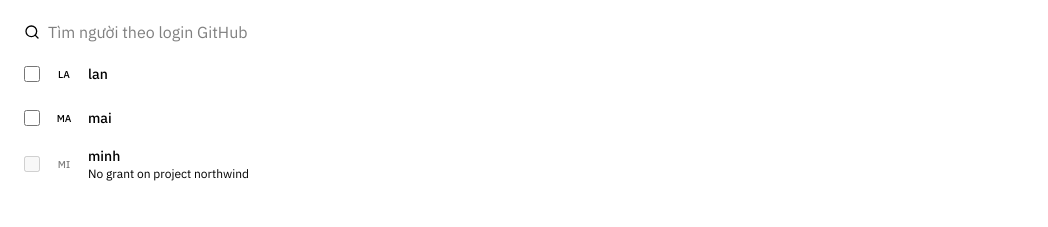
Test case: PeoplePicker › searches, and Enter takes the one row left or the login typed as it is
Type "LA" into the search field with test id "people-search" at (536, 32), box [48,12,1024,52]
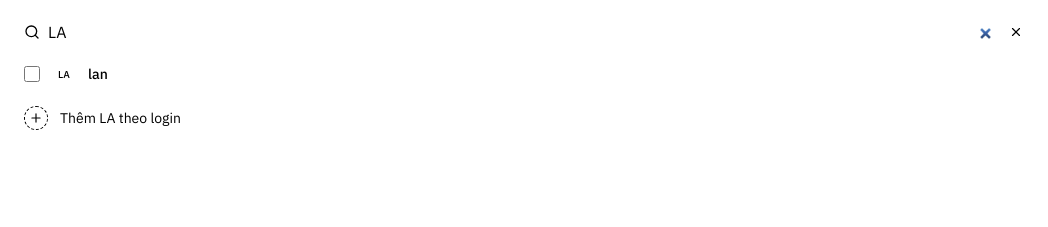
Press Enter
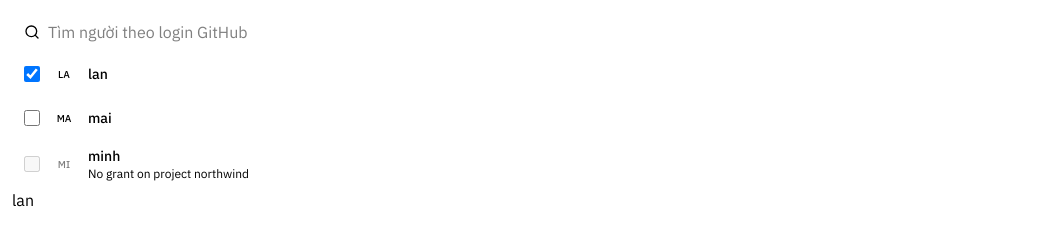
// nobody listed matches: the login typed is offered, and Enter adds it
Type "@octo-cat" into the search field with test id "people-search" at (536, 32), box [48,12,1024,52]
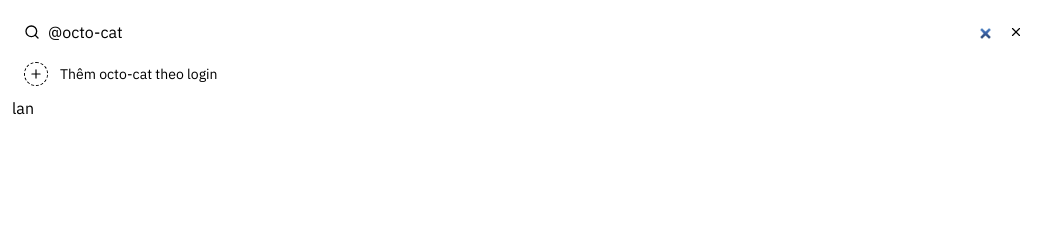
Expected: the button with test id "people-option-typed" has attribute data-login="octo-cat", [12,52,1036,96]
Press Enter
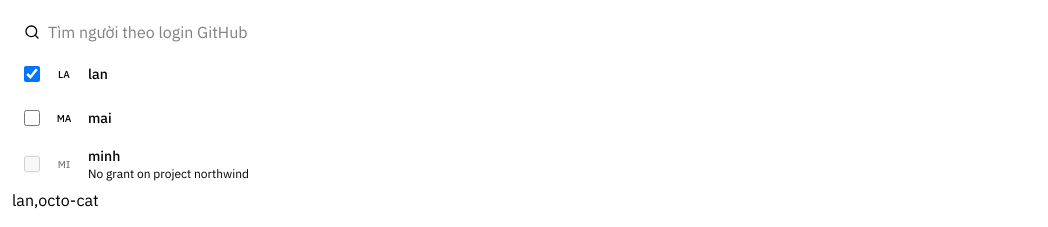
Expected: the text with test id "picked" reads "lan,octo-cat", [12,190,99,210]
// a search that is no login offers nothing and says so
Type "no one here" into the search field with test id "people-search" at (536, 32), box [48,12,1024,52]
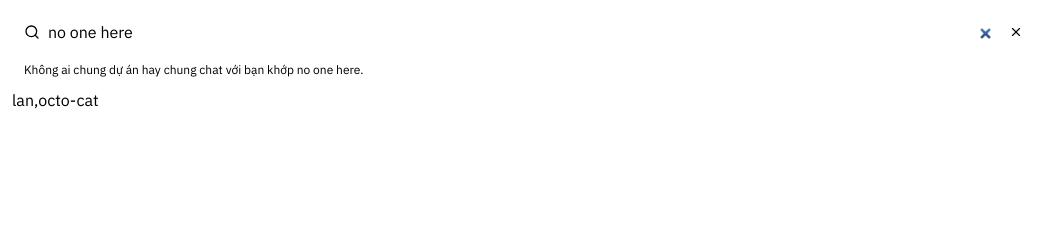
Expected: the list item with test id "people-empty" is shown, [24,62,363,77]
